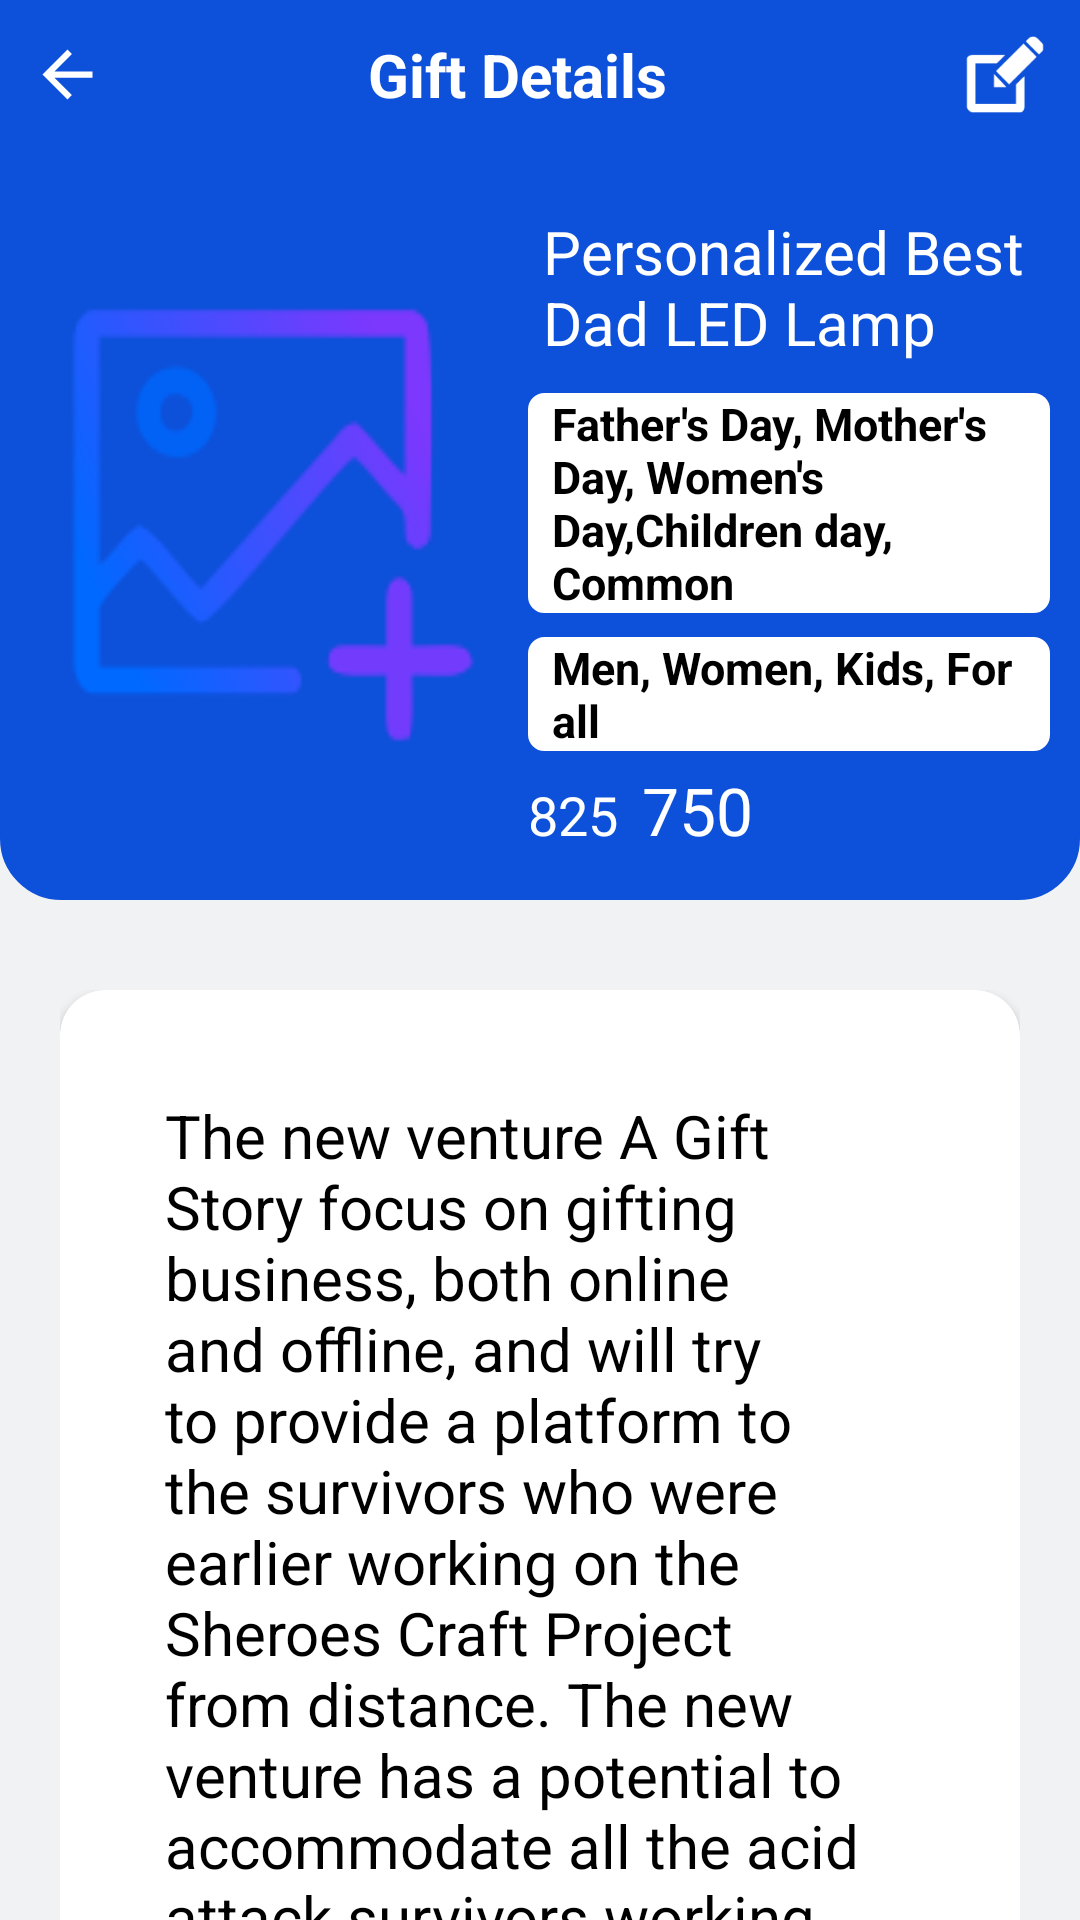

Icon bounding boxes for this 1080*1920 phone screenshot, format (x1, y1, x2, y2):
arrow back: (42, 49, 93, 100)
edit: (966, 36, 1044, 113)
